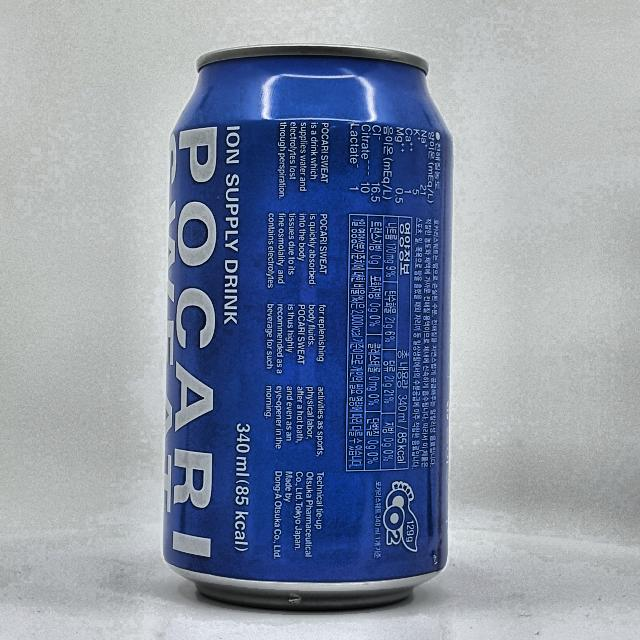pocarisweat: (164, 45, 451, 610)
